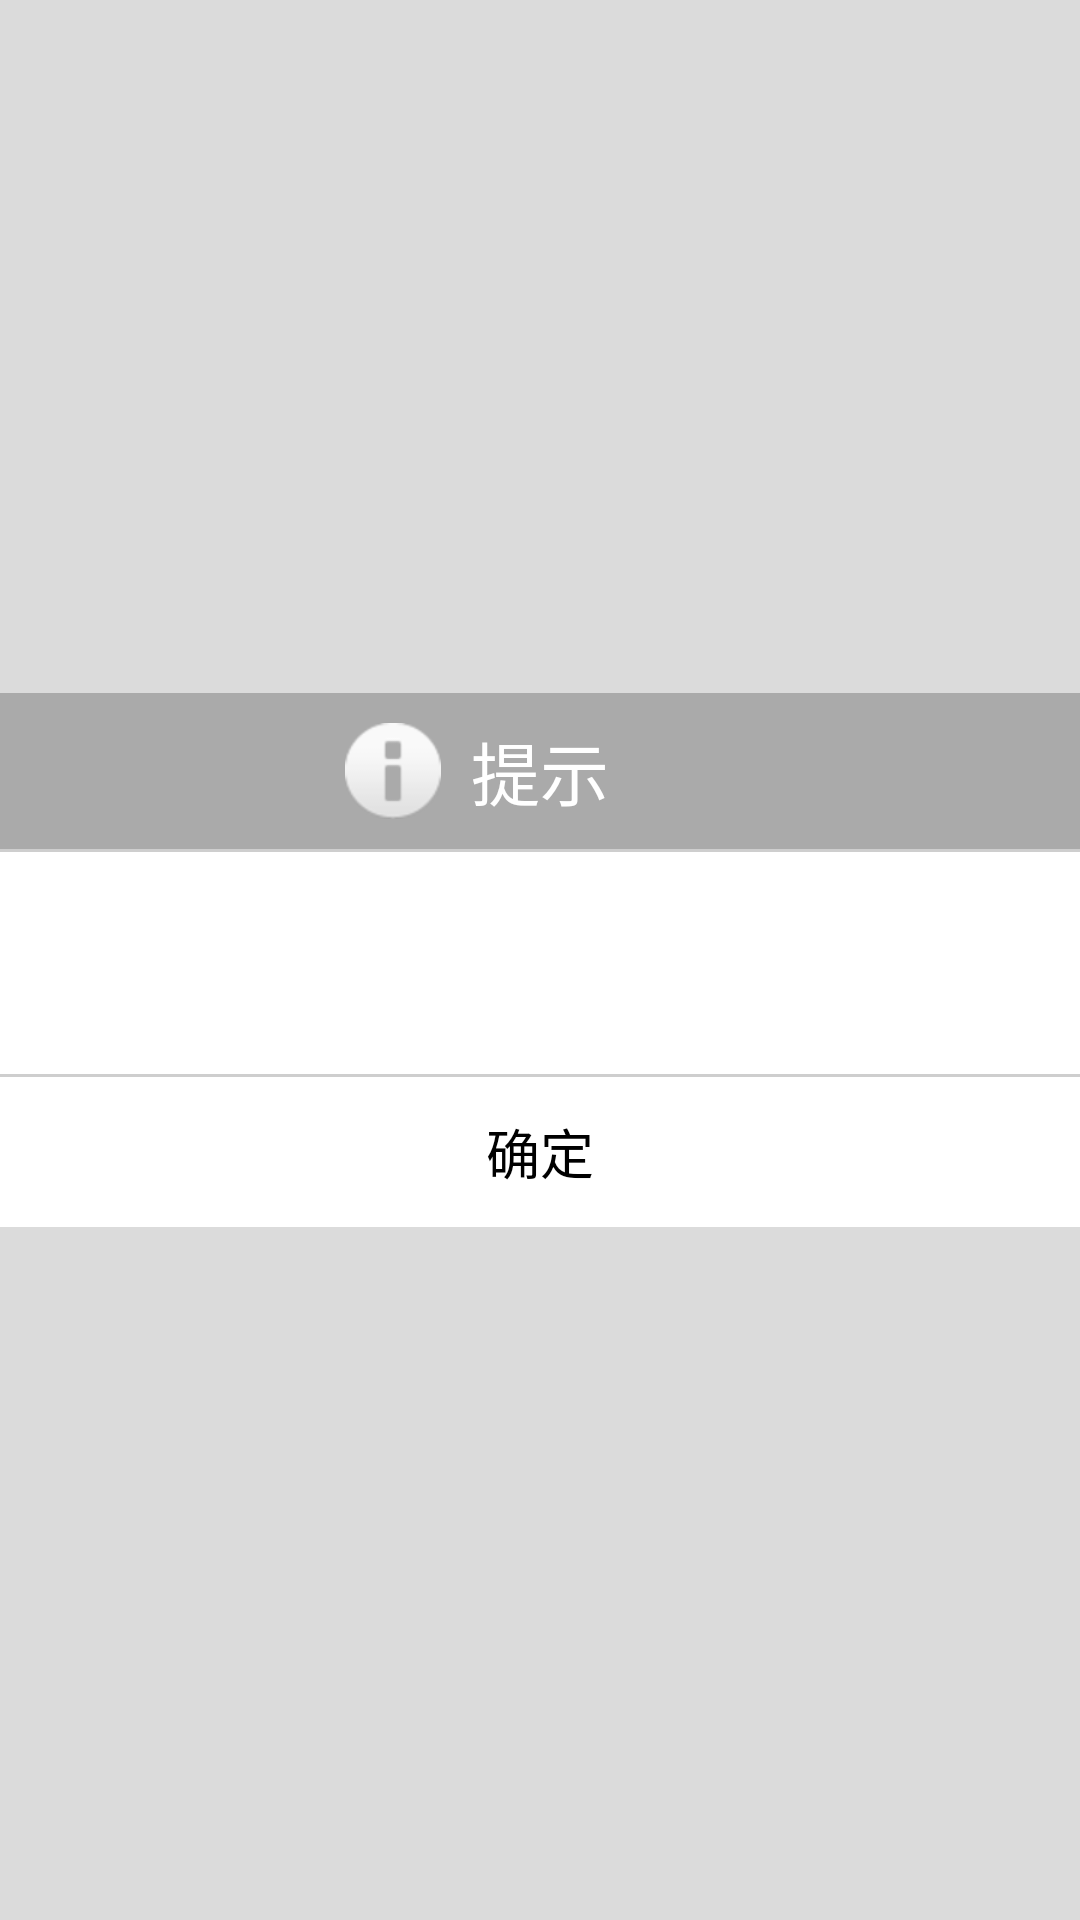

Where to tap for icons on this 1080px x 1920px app screen, as point (x, y):
info: point (393, 770)
